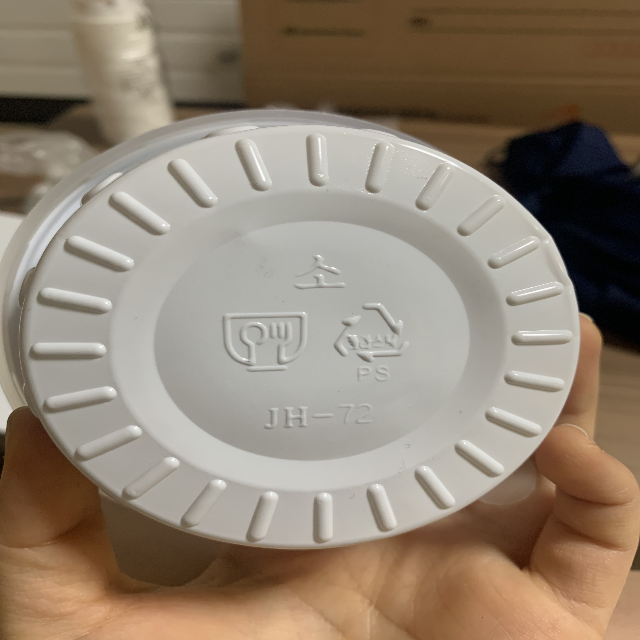ps: (329, 295, 414, 385)
